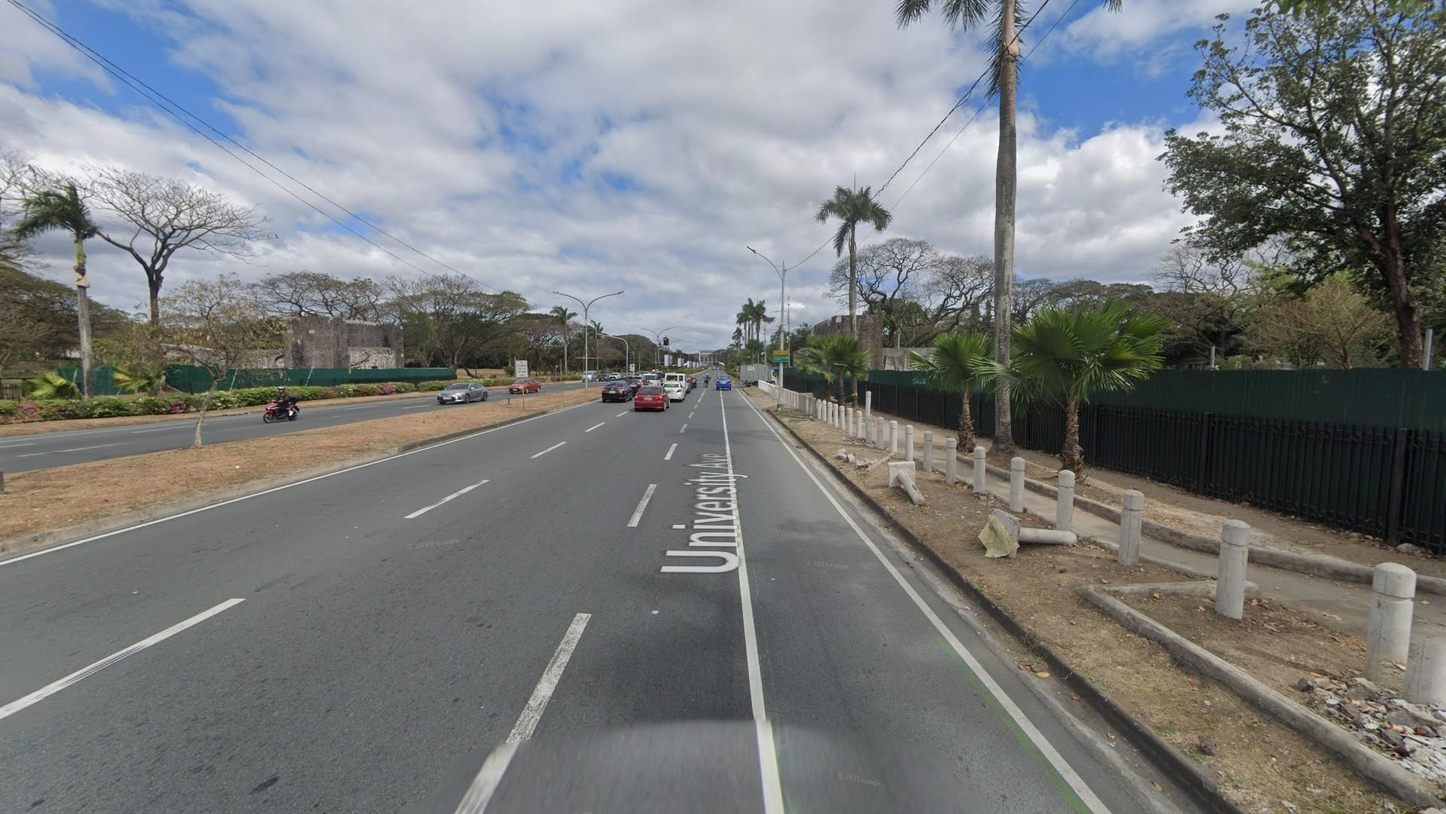cyclist: (703, 373, 711, 388)
